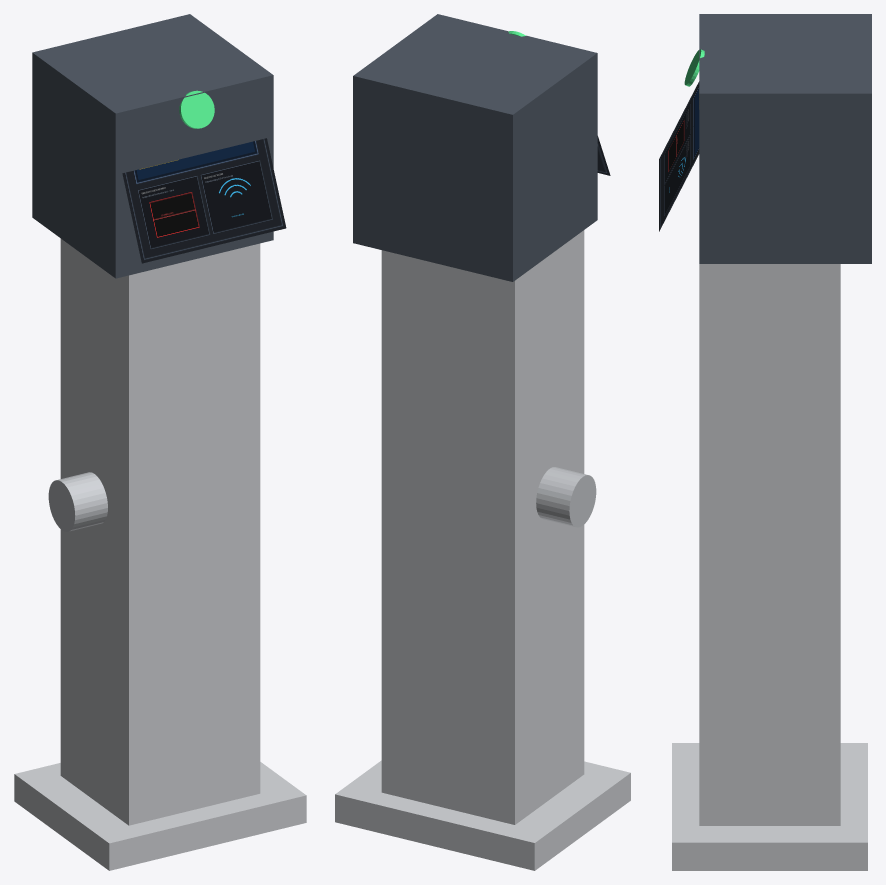
File: event-access.glb
3 views of the same model, side by side, from view 1: azimuth 30°, elevation 25°; view 2: azimuth 150°, elevation 25°; view 3: azimuth 270°, elevation 25° (orthographic). The views are drawn at different scales.
Visible parts, largest first — view 1: Cube.001, Cube.002, Cube, Plane, Cylinder, Cylinder.001; view 2: Cube.001, Cube.002, Cube, Cylinder; view 3: Cube.001, Cube.002, Cube, Plane.
Boxes of the visible parts, left/top/right/bottom form: Cube.001: left=60, top=238, right=260, bottom=825; Cube.002: left=32, top=14, right=273, bottom=278; Cube: left=14, top=762, right=306, bottom=870; Plane: left=122, top=138, right=286, bottom=263; Cylinder: left=48, top=472, right=107, bottom=531; Cylinder.001: left=179, top=90, right=214, bottom=128; Cube.001: left=381, top=230, right=584, bottom=824; Cube.002: left=353, top=14, right=597, bottom=281; Cube: left=335, top=760, right=630, bottom=870; Cylinder: left=536, top=467, right=596, bottom=527; Cube.001: left=699, top=264, right=840, bottom=825; Cube.002: left=699, top=14, right=871, bottom=263; Cube: left=672, top=743, right=867, bottom=870; Plane: left=659, top=81, right=699, bottom=231.
Bounding box in the file's own units: 0.3 × 1.08 × 0.2715.
Materials: 5 (1 with a texture image).
